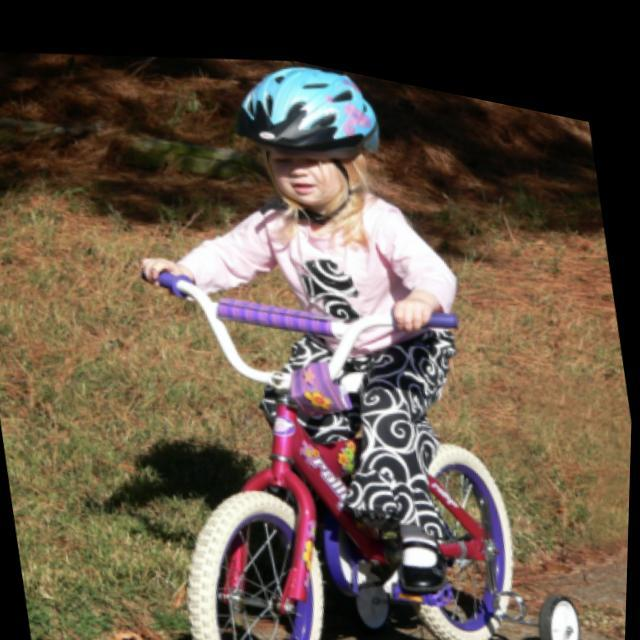Helmet: (234, 54, 386, 222)
